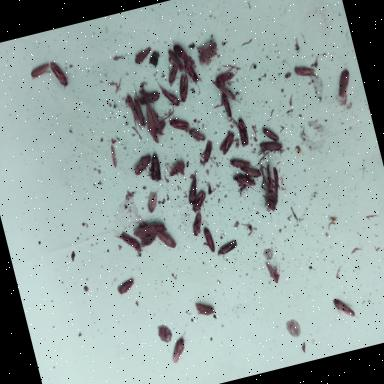pbw: (132, 222, 168, 248), (181, 170, 204, 205), (142, 150, 166, 183), (114, 228, 142, 256), (132, 86, 162, 112), (156, 78, 180, 110), (332, 294, 358, 323), (167, 333, 191, 363), (216, 80, 240, 107), (333, 70, 354, 98), (232, 170, 256, 194), (128, 154, 154, 176), (49, 60, 68, 88), (188, 212, 208, 238), (188, 190, 209, 214), (258, 138, 284, 157), (132, 92, 146, 127), (216, 132, 238, 154), (216, 240, 240, 260), (214, 66, 240, 84), (265, 260, 284, 284), (176, 74, 192, 102), (167, 47, 184, 73), (168, 114, 190, 134), (235, 118, 250, 146), (125, 94, 140, 122), (184, 64, 200, 90), (156, 230, 176, 250), (165, 158, 186, 177), (220, 92, 233, 122), (262, 125, 280, 146), (294, 63, 316, 80), (202, 228, 216, 254), (116, 278, 136, 296), (195, 299, 215, 317), (144, 192, 160, 214), (200, 140, 216, 162), (229, 154, 250, 170), (240, 164, 261, 180), (132, 48, 153, 64), (182, 59, 196, 82), (165, 64, 181, 84), (29, 64, 51, 78), (188, 128, 206, 144), (148, 104, 160, 124), (148, 124, 159, 144), (146, 108, 155, 130)
